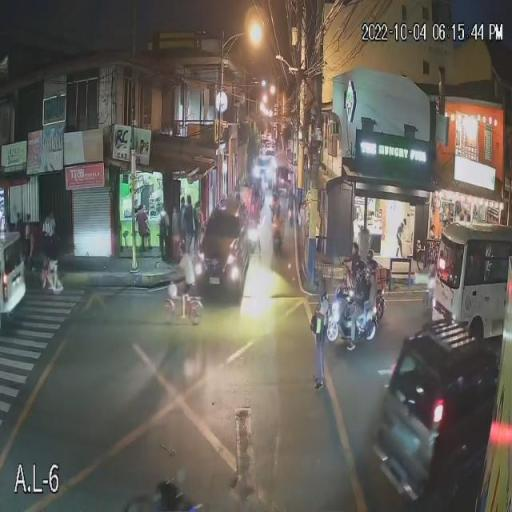helmet: (367, 259, 378, 279), (355, 262, 366, 279), (274, 204, 280, 218)
motorcycle: (330, 292, 379, 347), (271, 232, 284, 258)
rider: (352, 277, 366, 326), (366, 277, 379, 316), (273, 216, 283, 236)
